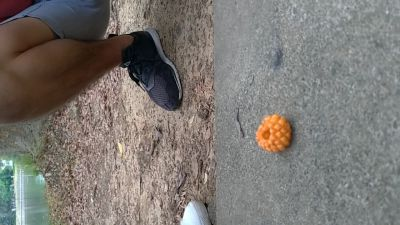eggs: (257, 115, 292, 153)
